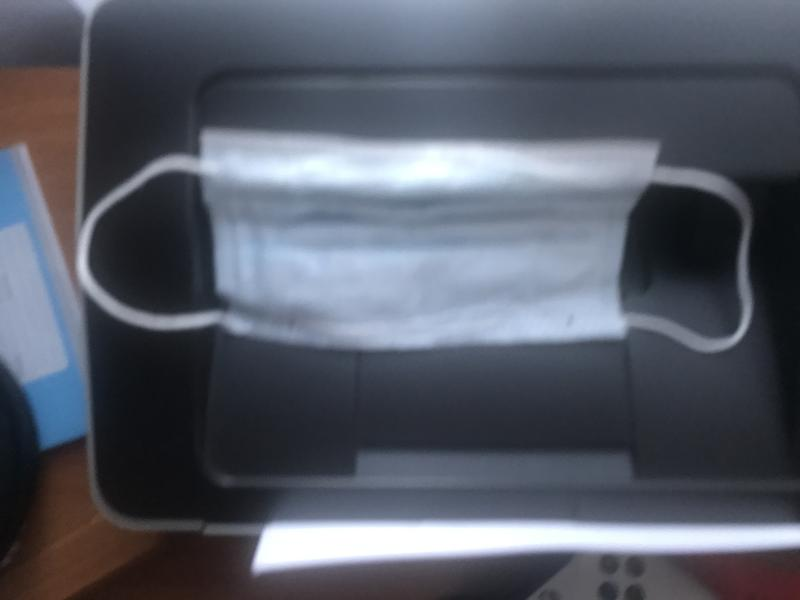medical_mask: (77, 126, 755, 355)
